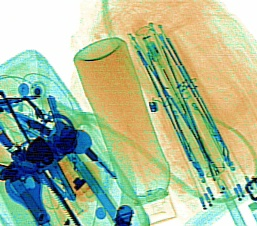pressure: (71, 35, 175, 225)
